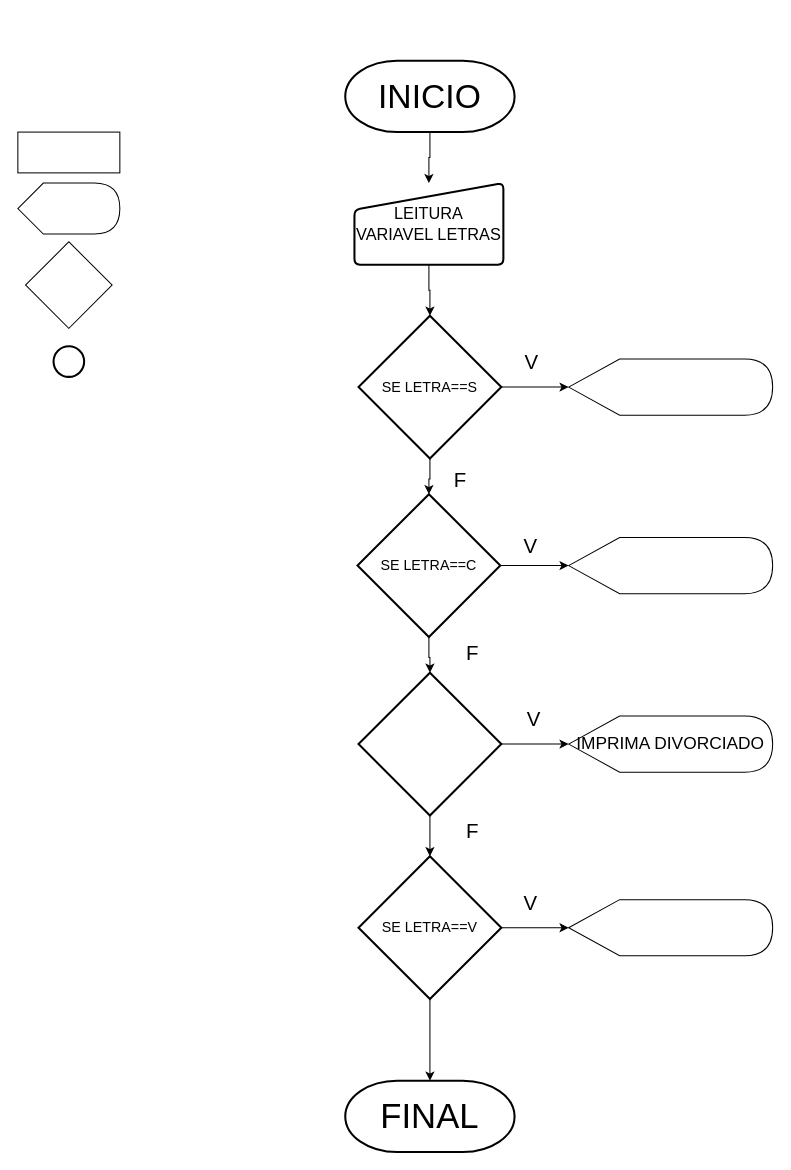
Image size: 791x1170. Some labels were removed from this diagram. Here are the shapes that lost their labels. From the top down, the box of each, then its label:
(568, 358, 773, 415): IMPRIMA SOLTEIRO
(568, 537, 773, 594): IMPRIMA CASADO
(357, 671, 502, 816): SE LETRA==D
(568, 899, 773, 956): IMPRIMA VIUVO
